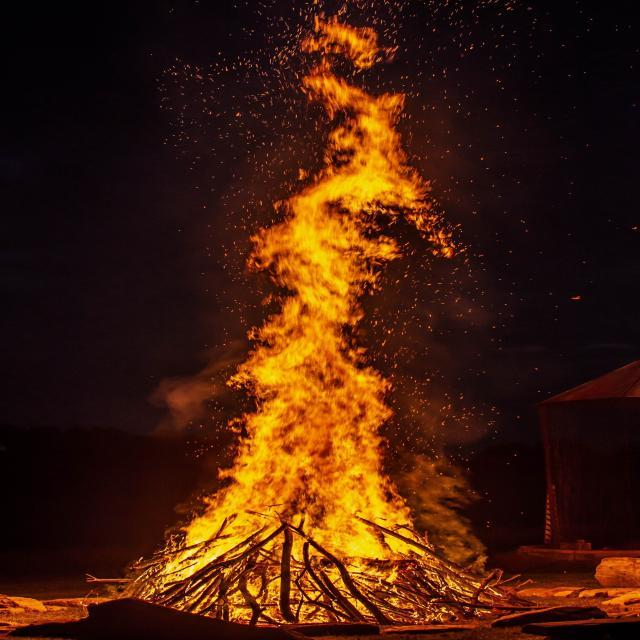Fire: (134, 9, 514, 626)
Smoke: (393, 390, 493, 571), (152, 338, 248, 442)
